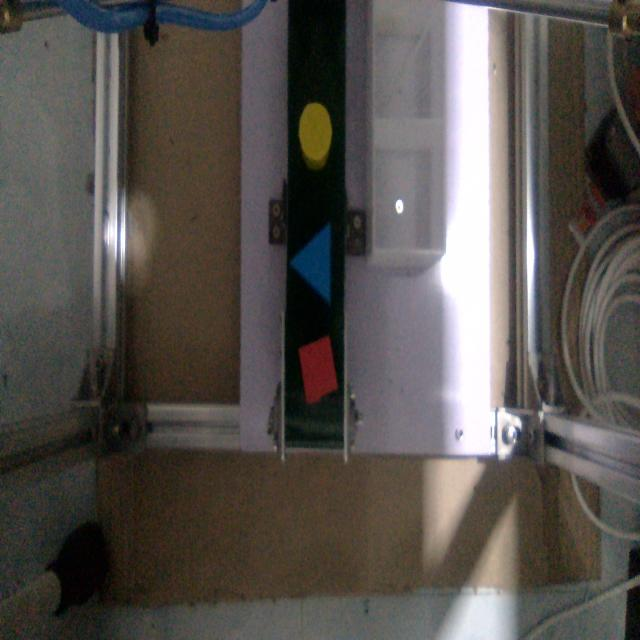BlueTri: (290, 218, 336, 309)
RedRec: (297, 327, 340, 409)
YelCir: (295, 99, 335, 172)
